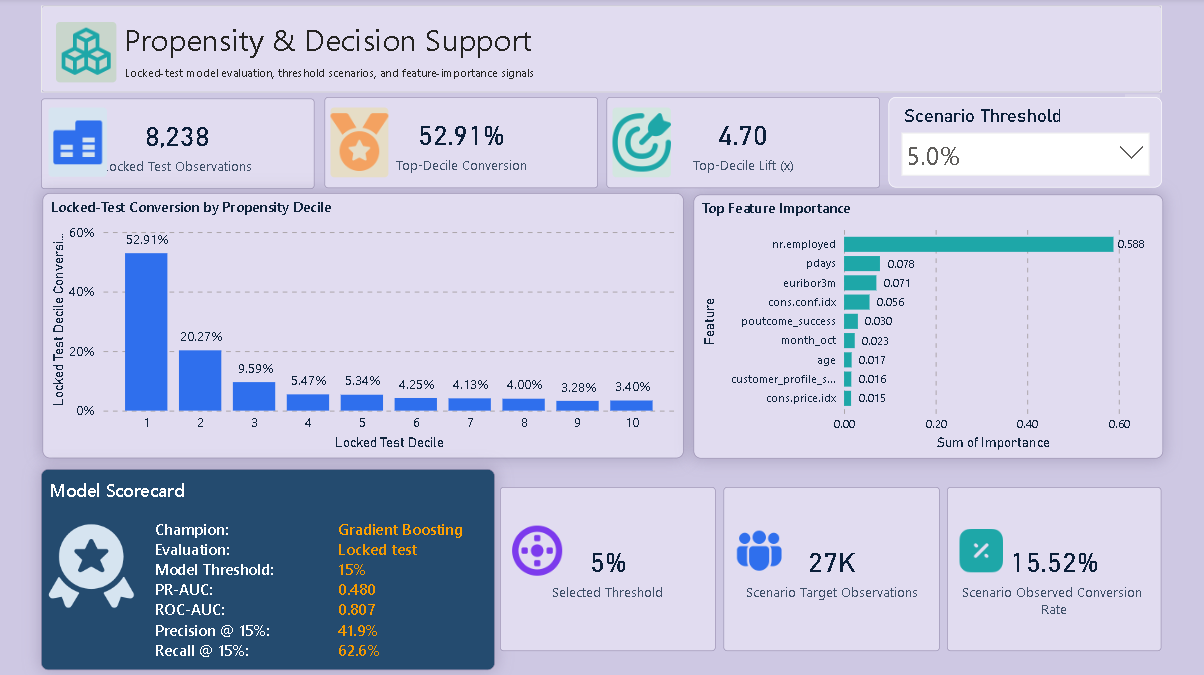

The dashboard page shown, as its layout file describes it:
{"tool":"powerbi","page":{"name":"Propensity & Decision Support","canvas":[1280,720],"ordinal":3},"visuals":[{"type":"shape","box":[45,8.3,1188.3,91.7],"z":0},{"type":"card","fields":{"Values":["_Measures.Locked Test Observations"]},"box":[44,106,290,96],"z":1000},{"type":"clusteredColumnChart","title":"Locked-Test Conversion by Propensity Decile","fields":{"Category":["model_evaluation_decile.locked_test_decile"],"Y":["_Measures.Locked Test Decile Conversion Rate"]},"box":[45.6,206.7,680,281.1],"z":2000},{"type":"clusteredBarChart","title":"Top Feature Importance","fields":{"Category":["feature_importance.feature"],"Y":["Sum(feature_importance.importance)"]},"box":[736.7,207.8,497.8,280],"z":3000},{"type":"textbox","box":[44.4,498.9,481.1,213.3],"z":4000},{"type":"textbox","box":[126.7,16.7,465,55],"z":5000},{"type":"textbox","box":[129,63,485,31],"z":6000},{"type":"image","box":[60,26,64,64],"z":7000},{"type":"image","box":[52.1,116.4,62.1,73.6],"z":8000},{"type":"card","fields":{"Values":["_Measures.Scenario Observed Conversion Rate"]},"box":[1005.8,519.2,227.5,174.2],"z":9000},{"type":"card","fields":{"Values":["_Measures.Locked Test Top-Decile Conversion Rate"]},"box":[344.4,105.6,290,96.7],"z":10000},{"type":"card","fields":{"Values":["_Measures.Locked Test Top-Decile Lift"]},"box":[644.4,105.6,290,96.7],"z":11000},{"type":"slicer","fields":{"Values":["Threshold Parameter.Value"]},"box":[943.6,105.7,290,95.7],"z":12000},{"type":"card","fields":{"Values":["_Measures.Scenario Target Observations"]},"box":[768.3,519.2,229.2,174.2],"z":13000},{"type":"card","fields":{"Values":["_Measures.Selected Threshold"]},"box":[531.7,519.2,228.3,174.2],"z":14000},{"type":"image","box":[51,523,94,158],"z":15000},{"type":"image","box":[351.2,116.2,61.2,73.8],"z":16000},{"type":"image","box":[650,116.1,61.7,73.9],"z":17000},{"type":"image","box":[541.7,550,56.7,71.7],"z":18000},{"type":"image","box":[777.5,550,56.7,71.7],"z":19000},{"type":"image","box":[1013.3,550,56.7,71.7],"z":20000}]}

Visuals, with their boxes in screenshot pixels (x1, y1, x2, y2), scaled from the page's 1280x720 canvas onto the 1204x675 screenshot:
shape: detection(42, 8, 1160, 94)
card - _Measures.Locked Test Observations: detection(41, 99, 314, 189)
"Locked-Test Conversion by Propensity Decile" clusteredColumnChart: detection(43, 194, 683, 457)
"Top Feature Importance" clusteredBarChart: detection(693, 195, 1161, 457)
textbox: detection(42, 468, 494, 668)
textbox: detection(119, 16, 557, 67)
textbox: detection(121, 59, 578, 88)
image: detection(56, 24, 117, 84)
image: detection(49, 109, 107, 178)
card - _Measures.Scenario Observed Conversion Rate: detection(946, 487, 1160, 650)
card - _Measures.Locked Test Top-Decile Conversion Rate: detection(324, 99, 597, 190)
card - _Measures.Locked Test Top-Decile Lift: detection(606, 99, 879, 190)
slicer - Threshold Parameter.Value: detection(888, 99, 1160, 189)
card - _Measures.Scenario Target Observations: detection(723, 487, 938, 650)
card - _Measures.Selected Threshold: detection(500, 487, 715, 650)
image: detection(48, 490, 136, 638)
image: detection(330, 109, 388, 178)
image: detection(611, 109, 669, 178)
image: detection(510, 516, 563, 583)
image: detection(731, 516, 785, 583)
image: detection(953, 516, 1006, 583)
